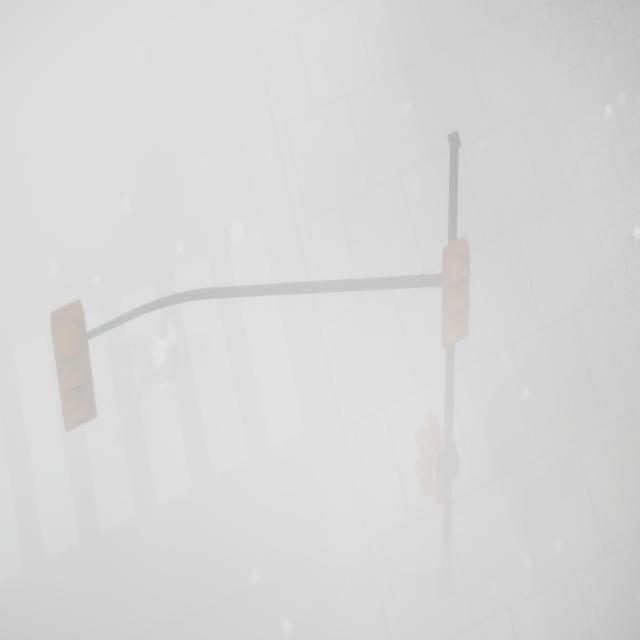Human: (138, 308, 192, 426)
